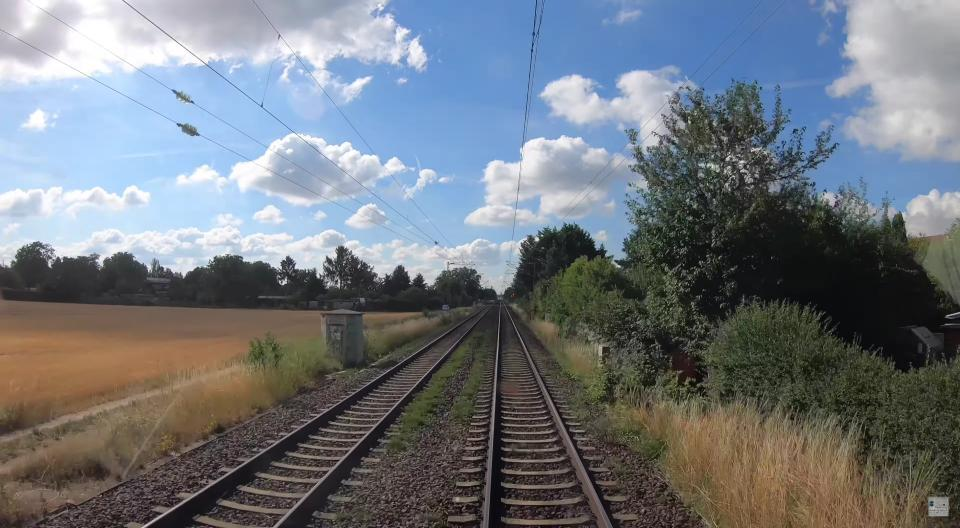Plant: (579, 390, 885, 528), (390, 332, 484, 450), (452, 333, 490, 422), (538, 349, 583, 383), (588, 358, 616, 403), (567, 389, 585, 413)
